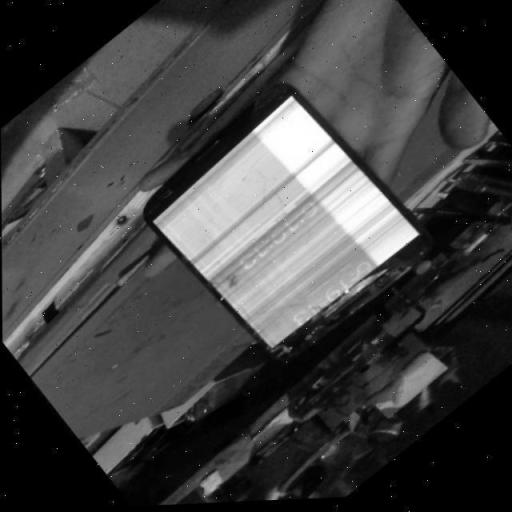phone: (133, 73, 429, 364)
